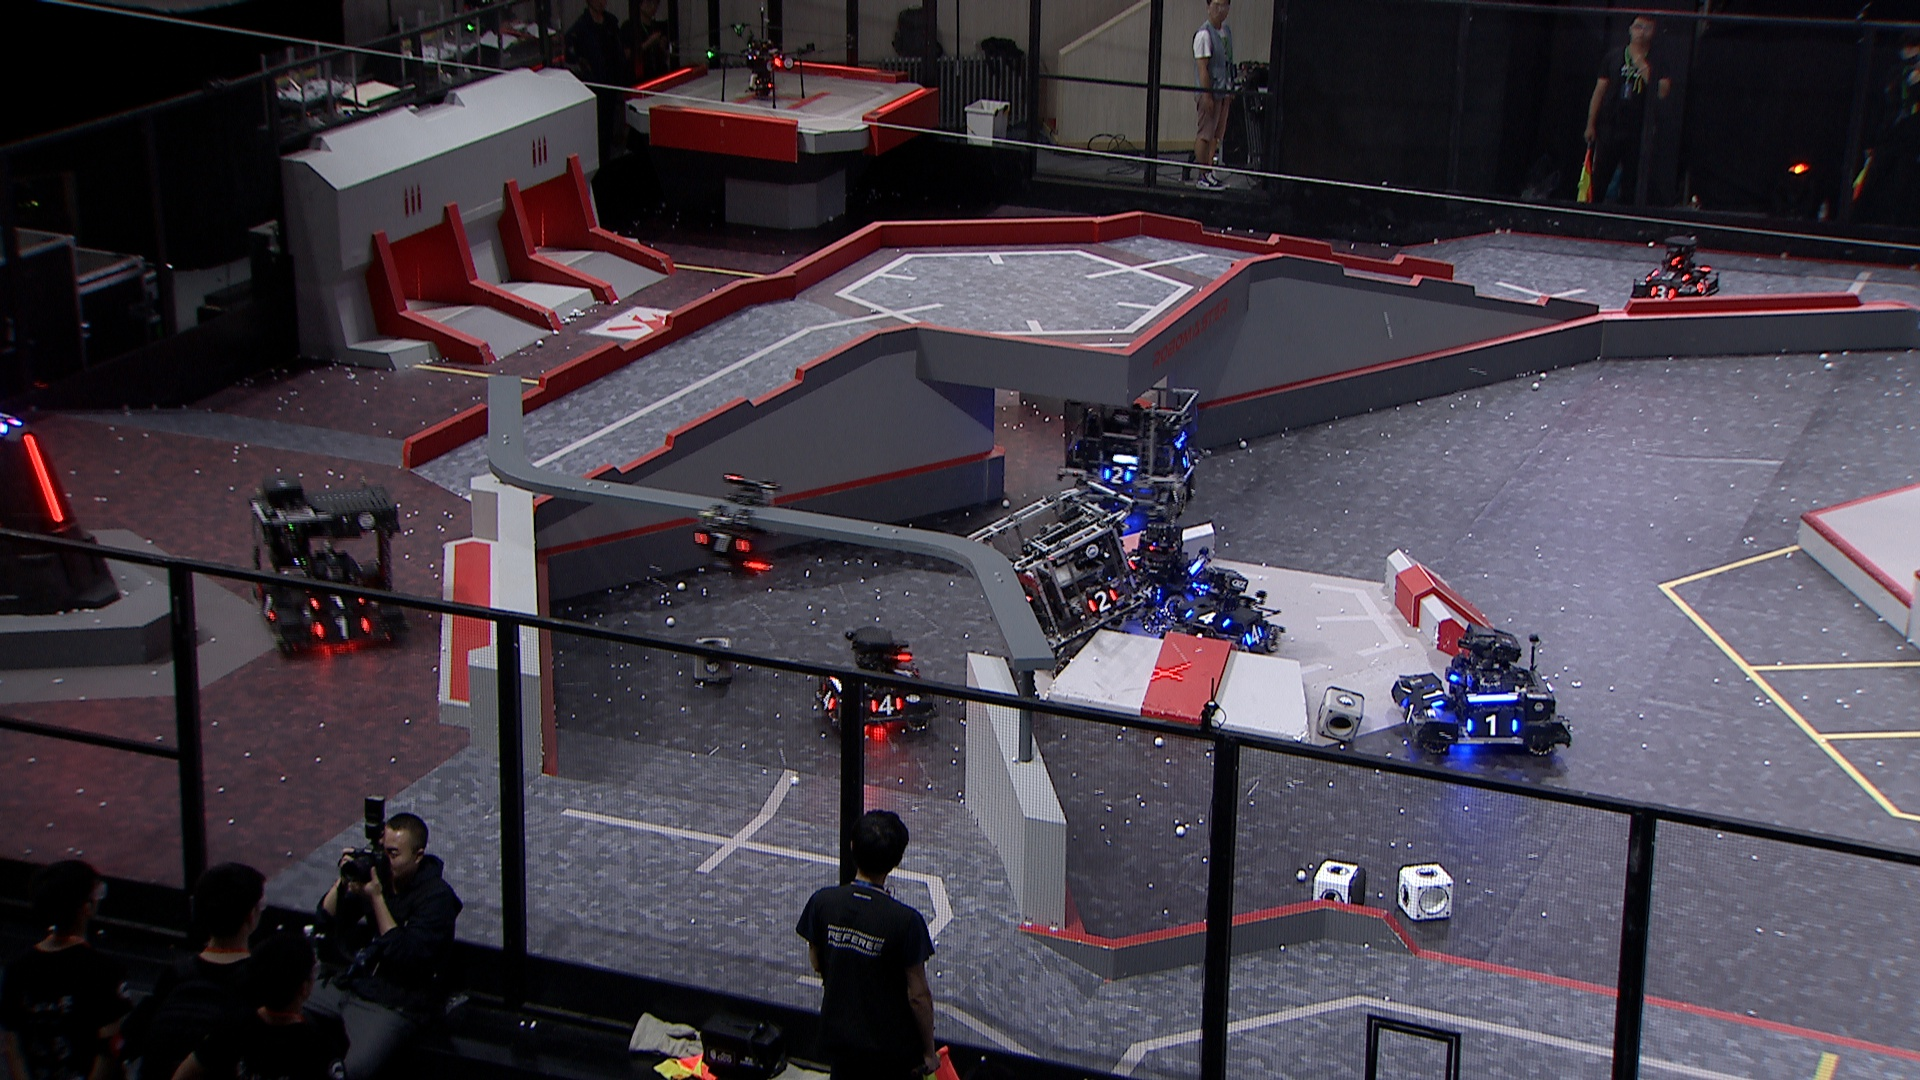armor: (18, 431, 65, 527), (690, 526, 752, 559), (311, 615, 373, 645), (1465, 711, 1520, 741), (1414, 676, 1455, 713), (309, 588, 367, 613), (1182, 605, 1233, 629), (864, 694, 906, 721), (253, 585, 284, 622), (1087, 588, 1121, 616), (1396, 695, 1420, 727), (1648, 266, 1691, 284), (1102, 465, 1133, 485), (1240, 622, 1265, 646), (818, 684, 837, 713), (1648, 284, 1677, 302), (1120, 543, 1141, 567), (1176, 447, 1196, 469), (1692, 276, 1713, 295)
car: (969, 485, 1141, 665), (248, 484, 411, 655), (1393, 615, 1576, 760), (1055, 381, 1199, 524), (814, 624, 939, 735), (1155, 562, 1284, 659), (1101, 518, 1215, 622), (1625, 229, 1724, 305)
watcher: (684, 471, 782, 580)
